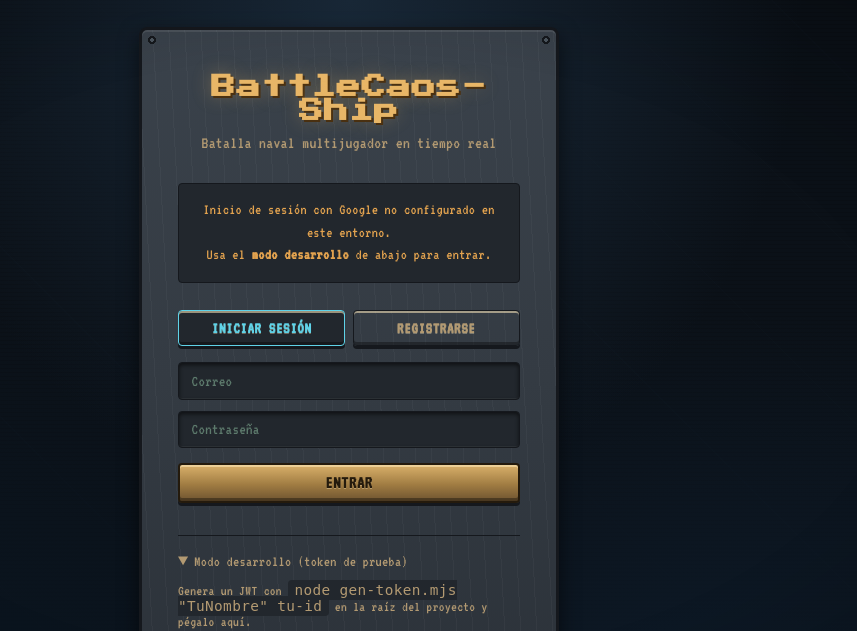
Test: LoginPage › cambiar a la pestaña de registro muestra el campo de apodo
This screenshot has width=857, height=631.
Click the button "Registrarse": (436, 328) [353,310,520,346]
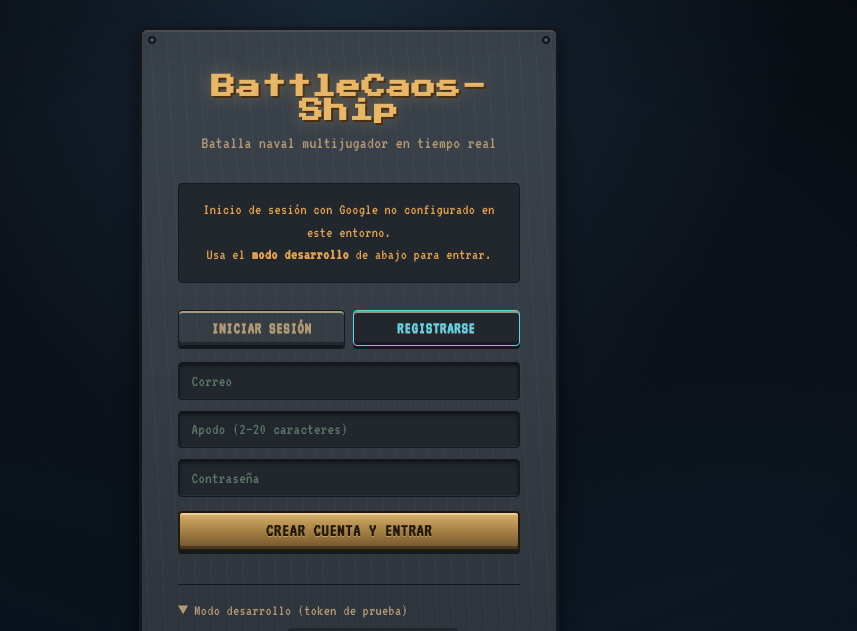
Now the field with placeholder "Apodo (2–20 caracteres)" is shown, box [178,410,520,448]
Now the button "Crear cuenta y entrar" is shown, box [178,511,520,551]
